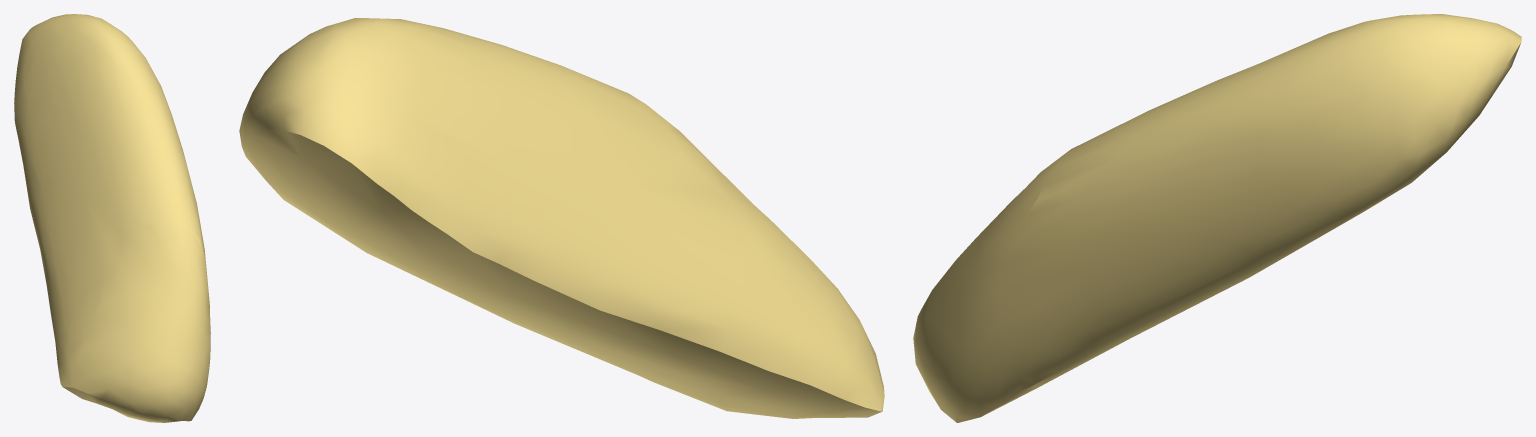
Rendered from fma73329_mm2959m.glb.
3 renders of one model, left to right at view 1: azimuth 30°, elevation 25°; view 2: azimuth 150°, elevation 25°; view 3: azimuth 270°, elevation 25°, orthographic. The views are drawn at different scales.
Visible parts, largest first — view 1: FMA73329_MM2959M; view 2: FMA73329_MM2959M; view 3: FMA73329_MM2959M.
Boxes of the visible parts, bbox=[...] form: FMA73329_MM2959M: bbox=[14, 14, 210, 422]; FMA73329_MM2959M: bbox=[239, 18, 884, 418]; FMA73329_MM2959M: bbox=[913, 14, 1521, 422].
Bounding box in the file's own units: 0.00251 × 0.0034 × 0.00425.
